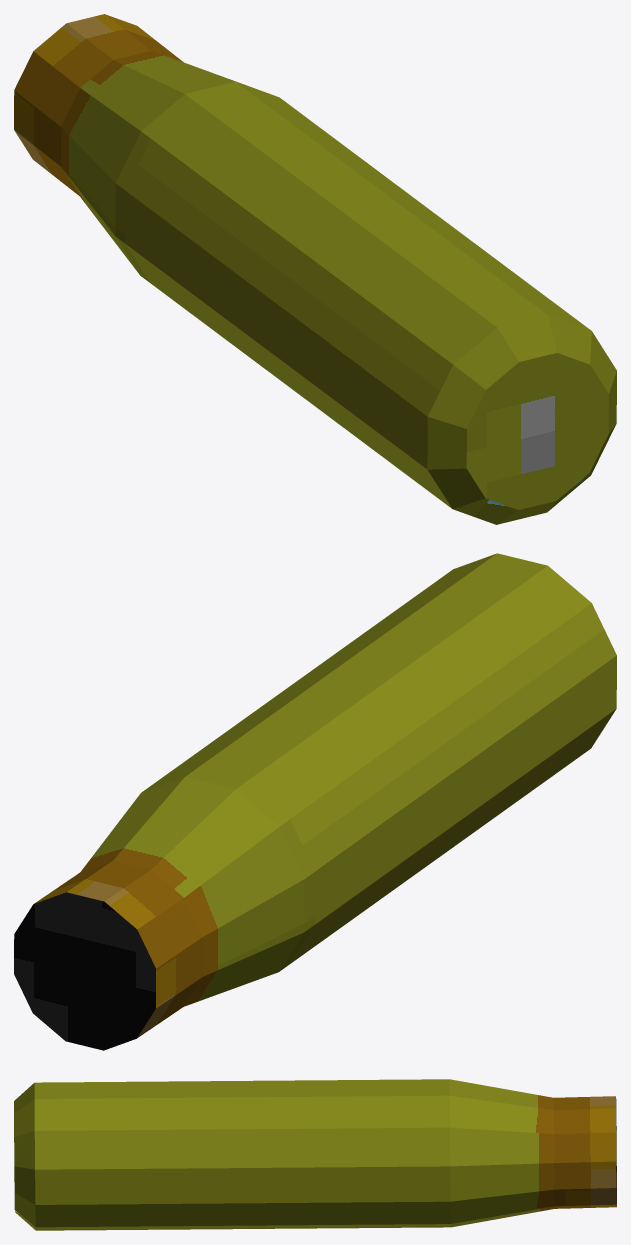
The model's file is machineshell.glb.
The picture shows the model from 3 angles, top to bottom: view 1: azimuth 30°, elevation 25°; view 2: azimuth 150°, elevation 25°; view 3: azimuth 270°, elevation 25°; orthographic projection. The views are drawn at different scales.
Visible parts, largest first — view 1: cylinder; view 2: cylinder; view 3: cylinder.
Part boxes in pixels (bbox=[...]): cylinder: bbox=[14, 14, 616, 524]; cylinder: bbox=[14, 553, 616, 1050]; cylinder: bbox=[14, 1079, 616, 1230].
Bounding box in the file's own units: 0.0437 × 0.0448 × 0.1815.
1 material, 1 textured.
